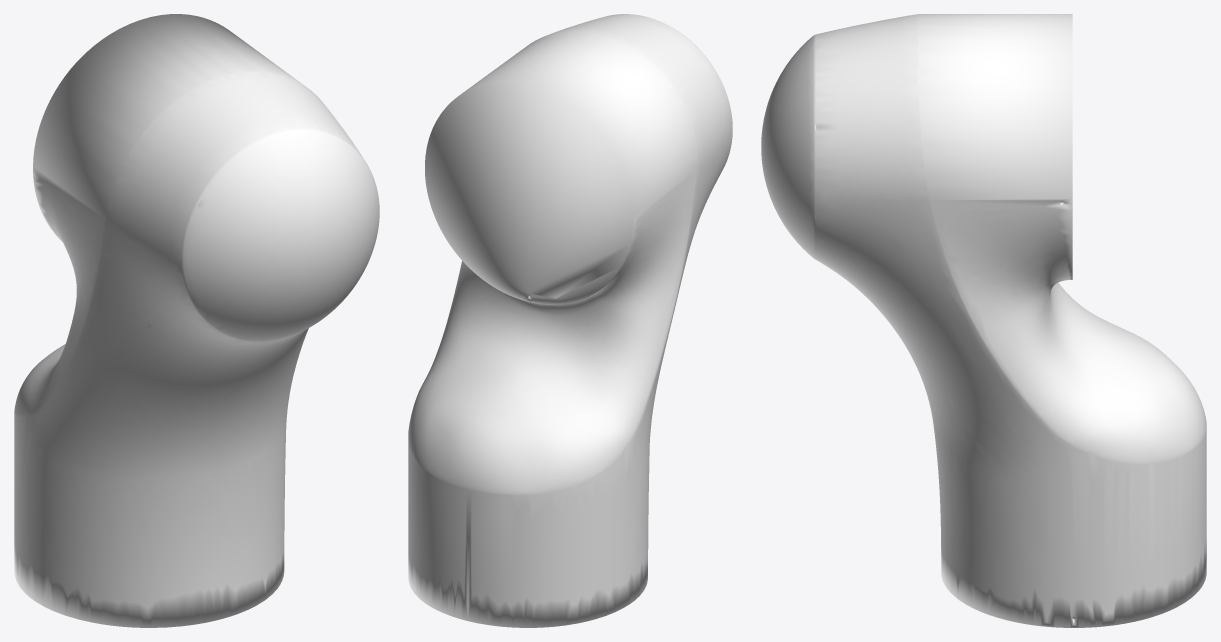
3 renders of one model, left to right at view 1: azimuth 30°, elevation 25°; view 2: azimuth 150°, elevation 25°; view 3: azimuth 270°, elevation 25°, orthographic. The views are drawn at different scales.
Visible parts, largest first — view 1: node0_Part__Feature024; view 2: node0_Part__Feature024; view 3: node0_Part__Feature024.
Boxes of the visible parts, left/top/right/bottom form: node0_Part__Feature024: left=14, top=14, right=379, bottom=627; node0_Part__Feature024: left=408, top=14, right=732, bottom=627; node0_Part__Feature024: left=761, top=14, right=1206, bottom=627.
Size of the model in its own units: 0.11 by 0.249 by 0.1844.
Materials: 1 (1 with a texture image).
